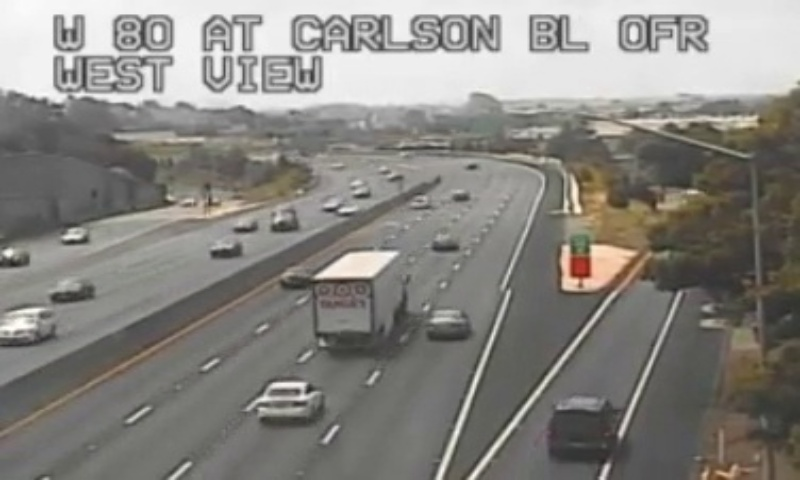car: (546, 395, 614, 454), (257, 378, 323, 418), (425, 308, 468, 339), (278, 267, 310, 288)
truck: (310, 249, 406, 355)
